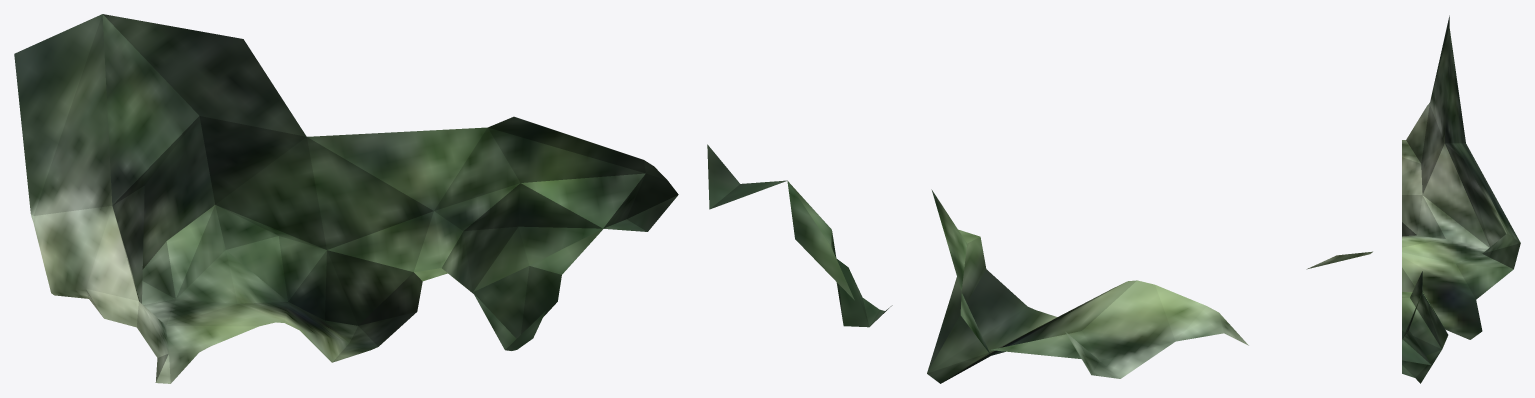
3 views of the same model, side by side, from view 1: azimuth 30°, elevation 25°; view 2: azimuth 150°, elevation 25°; view 3: azimuth 270°, elevation 25° (orthographic). The views are drawn at different scales.
Size of the model in its own units: 17.77 by 11.05 by 4.93.
Materials: 1 (1 with a texture image).
